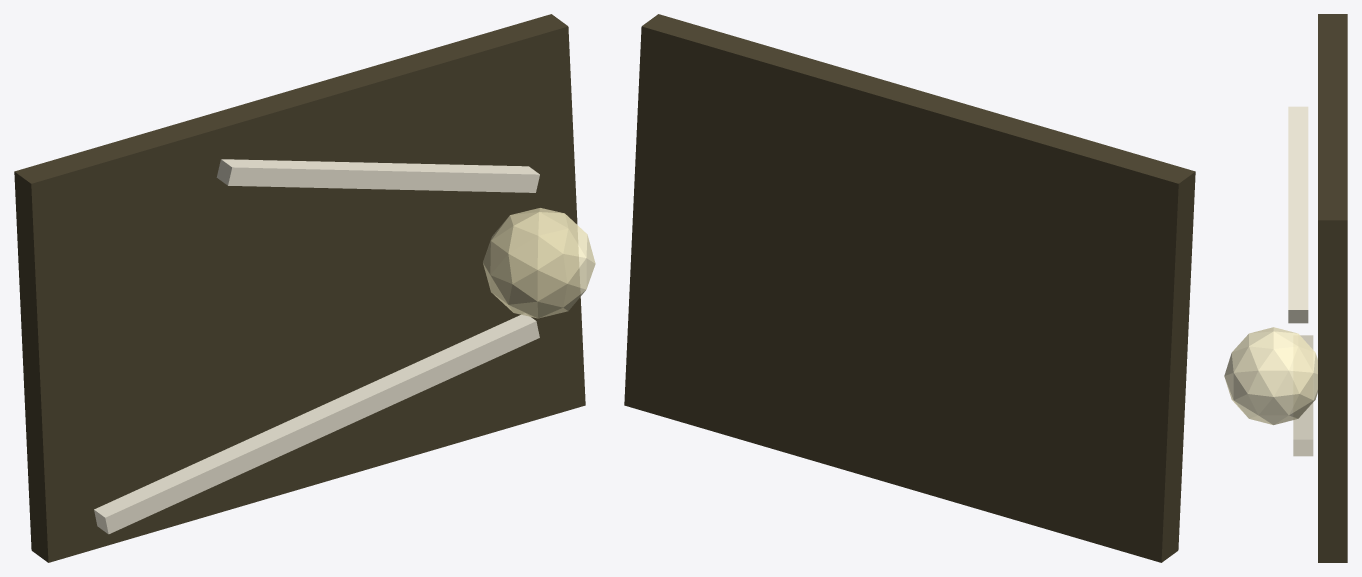
Rendered from 02_world_prop_polish.glb.
3 renders of one model, left to right at view 1: azimuth 30°, elevation 25°; view 2: azimuth 150°, elevation 25°; view 3: azimuth 270°, elevation 25°, orthographic. The views are drawn at different scales.
Visible parts, largest first — view 1: object_overlay_plate, edge_wear_a, glow_socket, edge_wear_b; view 2: object_overlay_plate; view 3: object_overlay_plate, glow_socket, edge_wear_b, edge_wear_a.
Boxes of the visible parts, x1,y1,x2,y2 form: object_overlay_plate: [14, 14, 585, 562]; edge_wear_a: [94, 314, 539, 534]; glow_socket: [483, 208, 595, 318]; edge_wear_b: [216, 159, 539, 192]; object_overlay_plate: [624, 14, 1195, 562]; object_overlay_plate: [1318, 14, 1347, 562]; glow_socket: [1224, 327, 1317, 425]; edge_wear_b: [1288, 106, 1308, 323]; edge_wear_a: [1293, 335, 1313, 456].
Size of the model in its own units: 1.13 by 0.8008 by 0.25.
